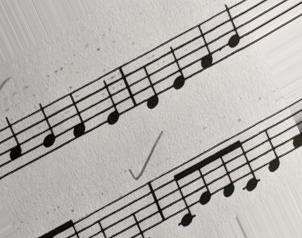note: (32, 102, 57, 155), (63, 90, 88, 141), (138, 58, 162, 111), (1, 117, 25, 168), (220, 3, 243, 53), (192, 21, 215, 70), (99, 76, 121, 127), (262, 122, 282, 175), (167, 41, 187, 92)
